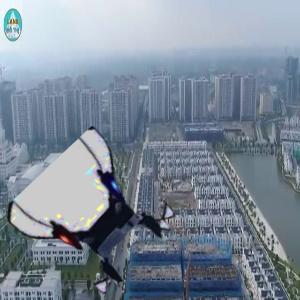drone: (28, 148, 169, 289)
